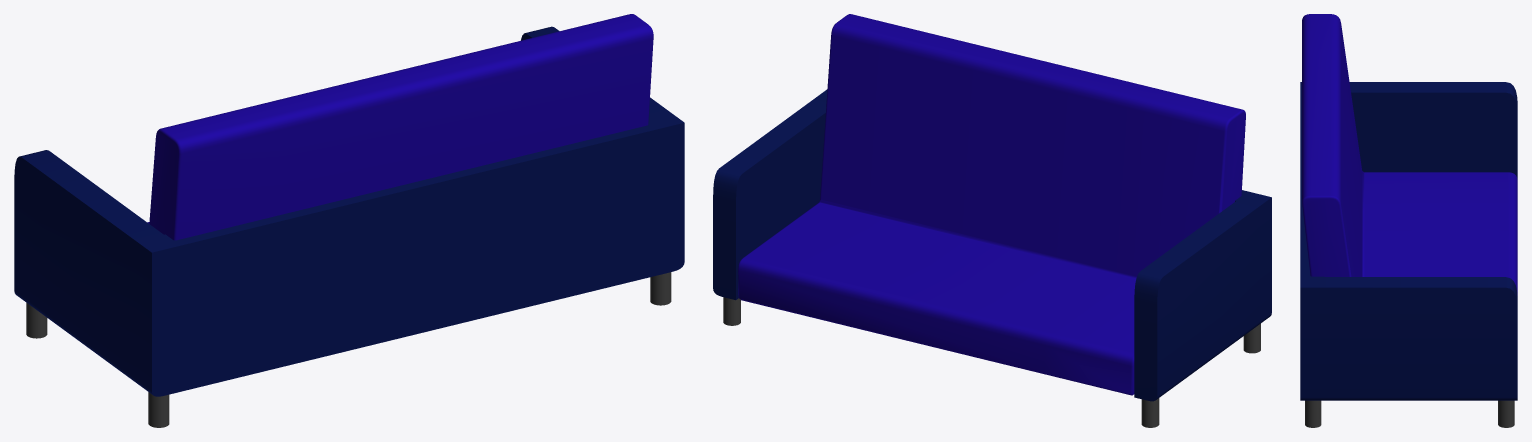
Rendered from couch.FBX.
3 renders of one model, left to right at view 1: azimuth 30°, elevation 25°; view 2: azimuth 150°, elevation 25°; view 3: azimuth 270°, elevation 25°, orthographic. The views are drawn at different scales.
Parts seen in each view (by area): view 1: Box006, Couch, Cylinder005, Cylinder004; view 2: Couch, Box006, Cylinder006; view 3: Box006, Couch, Cylinder003, Cylinder004.
Boxes of the visible parts, x1,y1,x2,y2 form: Box006: (14,26,684,396); Couch: (147,14,653,240); Cylinder005: (148,392,169,427); Cylinder004: (650,272,671,305); Couch: (738,14,1245,395); Box006: (713,89,1271,401); Cylinder006: (1141,398,1159,427); Box006: (1300,82,1517,400); Couch: (1302,14,1517,295); Cylinder003: (1498,400,1514,427); Cylinder004: (1305,400,1321,427).
Bounding box in the file's own units: 50.16 × 25.34 × 22.43.
